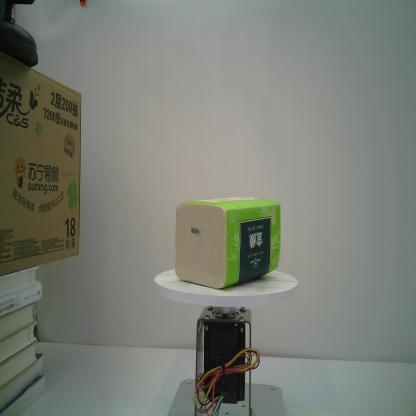Tissue: (172, 193, 282, 290)
